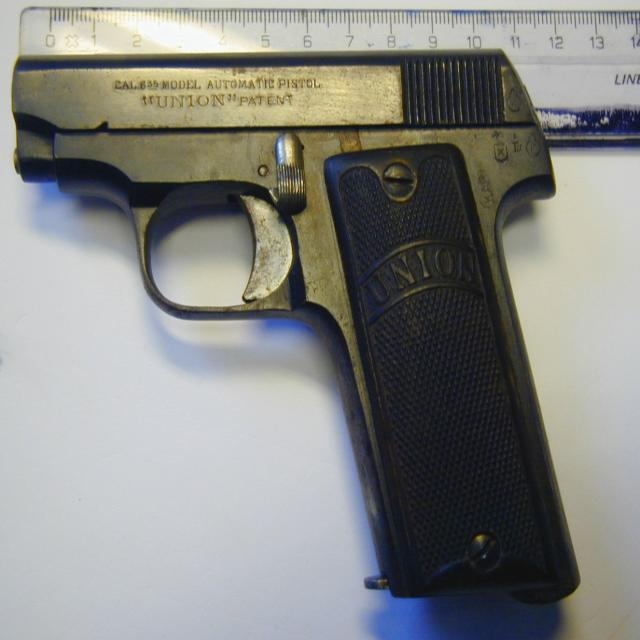Pistol: (7, 33, 627, 632)
